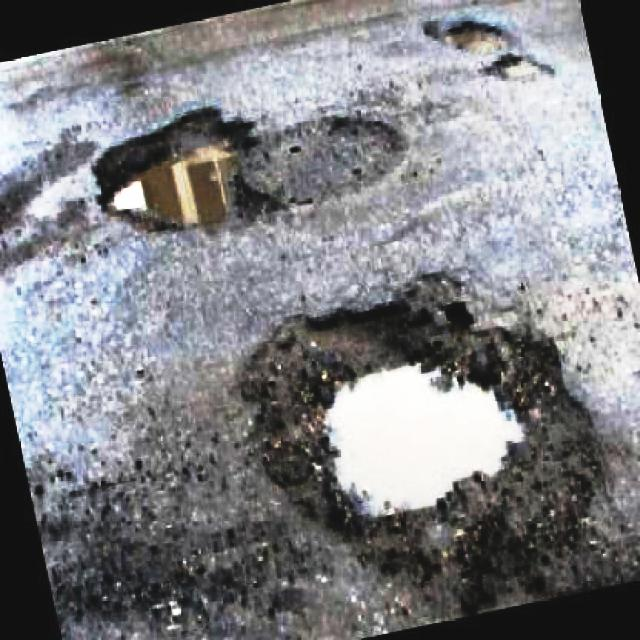pothole: (242, 297, 609, 598), (92, 102, 278, 230), (423, 11, 552, 88)
